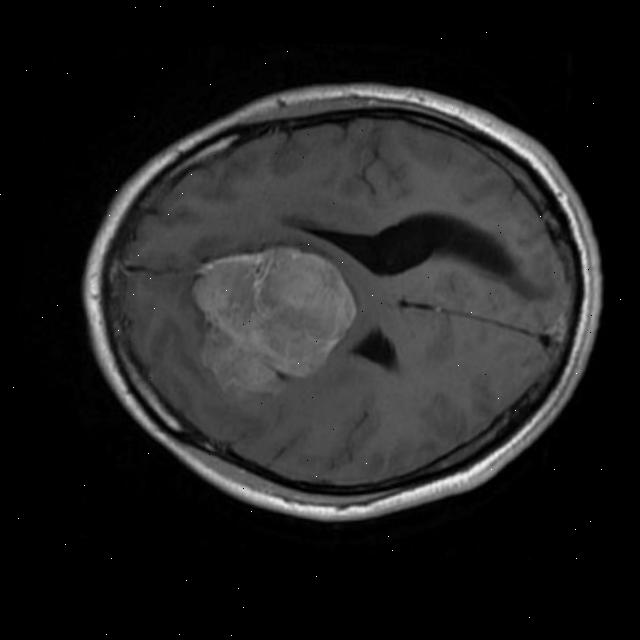Meningioma: (182, 239, 362, 398)
